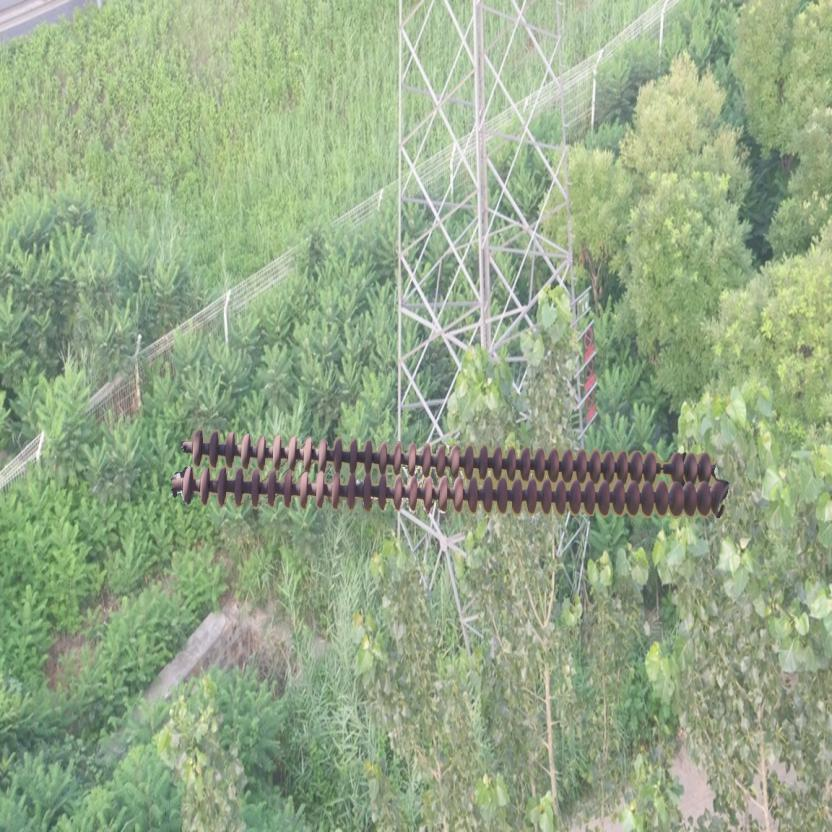defect: (642, 444, 684, 482)
